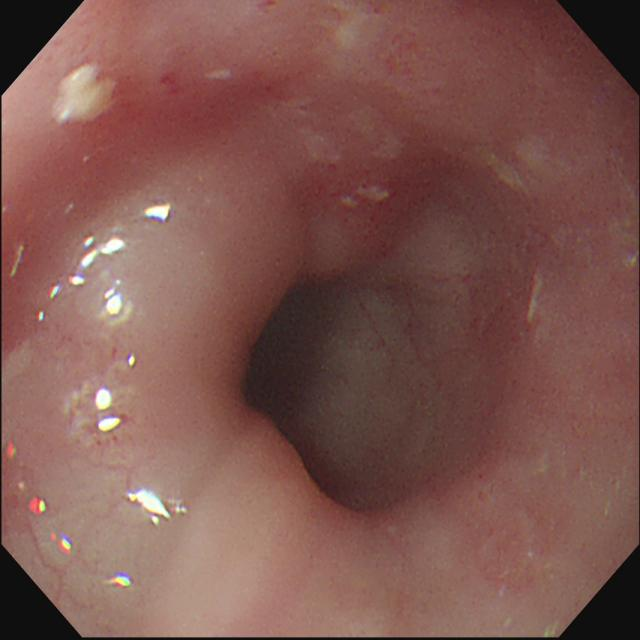A: (308, 169, 418, 261), (159, 72, 186, 98)
E: (240, 282, 340, 445)
J: (291, 108, 408, 168), (489, 136, 570, 196), (50, 63, 119, 127), (326, 2, 394, 58), (342, 186, 391, 210), (526, 273, 545, 324)
U: (128, 489, 173, 526), (82, 236, 125, 270), (96, 389, 122, 433), (28, 488, 52, 523), (104, 287, 125, 317), (107, 574, 138, 594), (57, 533, 78, 556), (146, 205, 173, 222), (69, 275, 87, 289)
